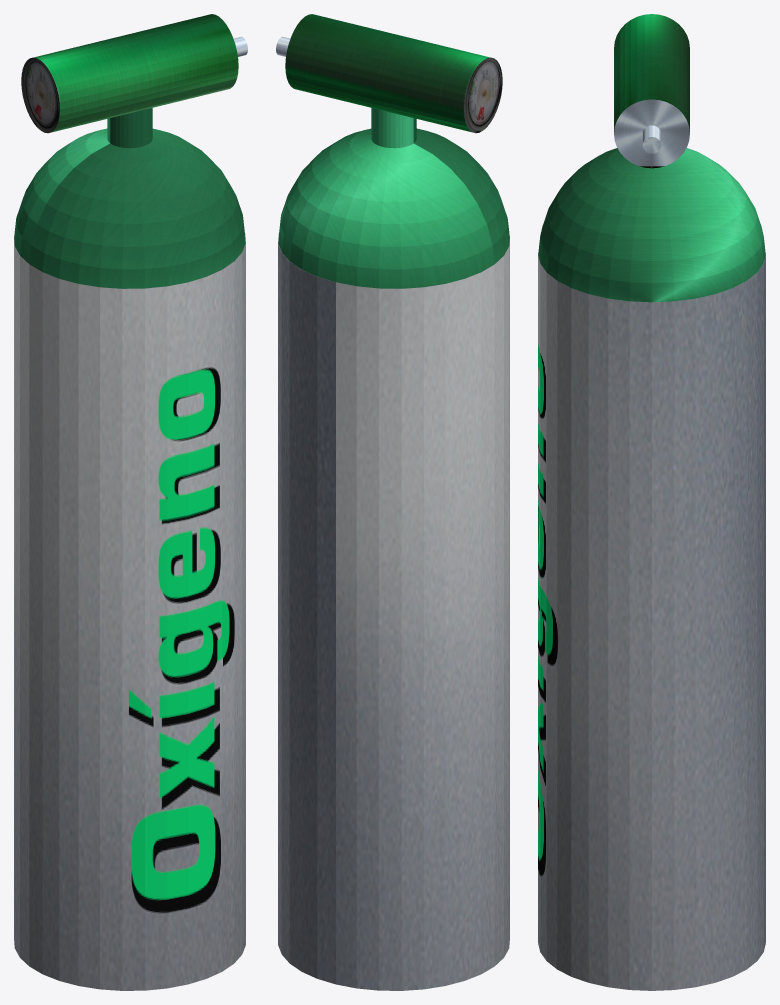
The model's file is old_oxygen.glb.
The picture shows the model from 3 angles, left to right: view 1: azimuth 30°, elevation 25°; view 2: azimuth 150°, elevation 25°; view 3: azimuth 270°, elevation 25°; orthographic projection.
Parts seen in each view (by area): view 1: tubo, Tapa, regulador; view 2: tubo, Tapa, regulador; view 3: tubo, Tapa, regulador.
Part boxes in pixels (<box>): tubo: <box>14,233,245,990</box>; Tapa: <box>14,108,245,288</box>; regulador: <box>21,14,247,133</box>; tubo: <box>278,233,509,990</box>; Tapa: <box>278,108,509,288</box>; regulador: <box>276,14,502,133</box>; tubo: <box>538,254,765,990</box>; Tapa: <box>538,148,765,302</box>; regulador: <box>614,14,689,168</box>.
Size of the model in its own units: 0.1594 by 0.6434 by 0.15.
Materials: 3 (3 with a texture image).
